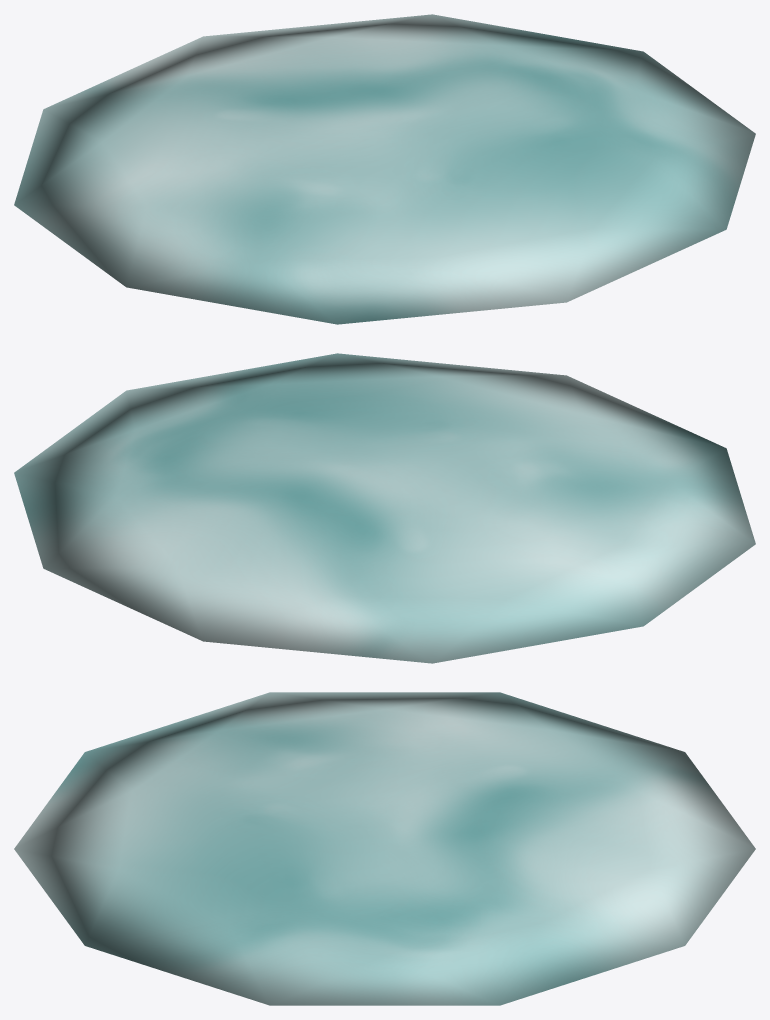
The model's file is SnowPatchWide.fbx.
3 views of the same model, one above another, from view 1: azimuth 30°, elevation 25°; view 2: azimuth 150°, elevation 25°; view 3: azimuth 270°, elevation 25° (orthographic). The views are drawn at different scales.
Parts seen in each view (by area): view 1: SnowPatchWide; view 2: SnowPatchWide; view 3: SnowPatchWide.
Boxes of the visible parts, left/top/right/bottom form: SnowPatchWide: left=14, top=14, right=755, bottom=324; SnowPatchWide: left=14, top=353, right=755, bottom=663; SnowPatchWide: left=14, top=692, right=755, bottom=1005.
Bounding box in the file's own units: 50 × 50 × 3.
